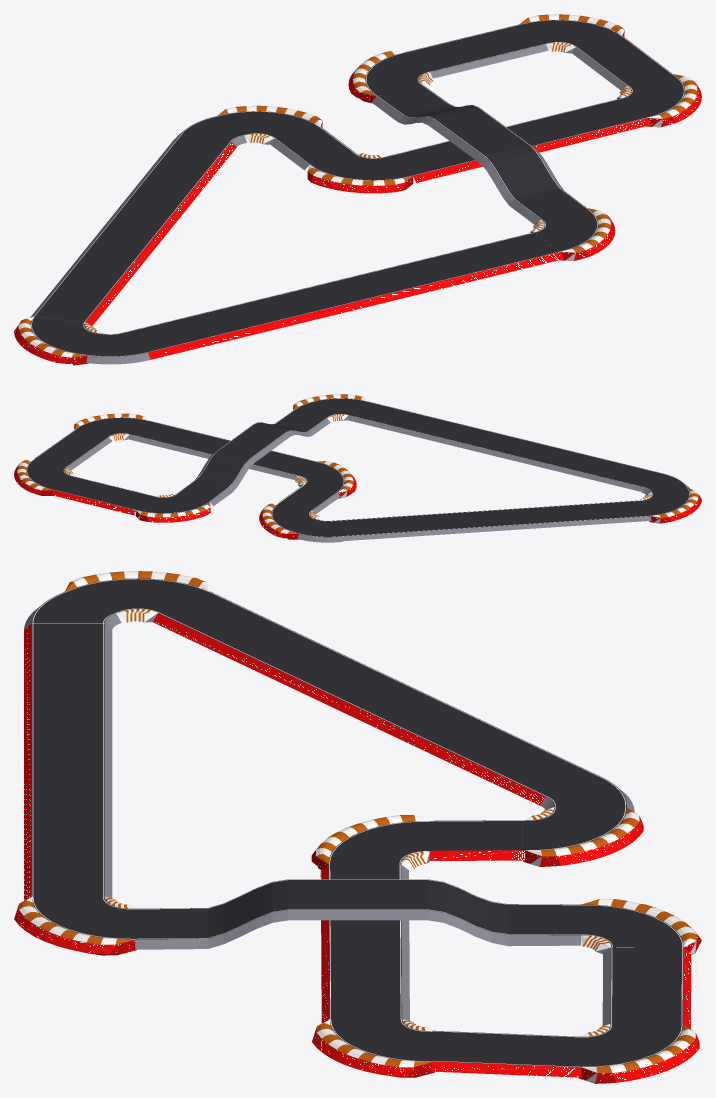
Rendered from map1.glb.
The picture shows the model from 3 angles, top to bottom: view 1: azimuth 30°, elevation 25°; view 2: azimuth 150°, elevation 25°; view 3: azimuth 270°, elevation 25°; orthographic projection. The views are drawn at different scales.
Visible parts, largest first — view 1: Plane.003; view 2: Plane.003; view 3: Plane.003.
Part boxes in pixels (box(x1,y1,x2,y2)): Plane.003: box(14, 14, 701, 365); Plane.003: box(14, 394, 701, 542); Plane.003: box(14, 571, 701, 1083).
Bounding box in the file's own units: 781 × 29.3 × 445.
Materials: 1 (1 with a texture image).
